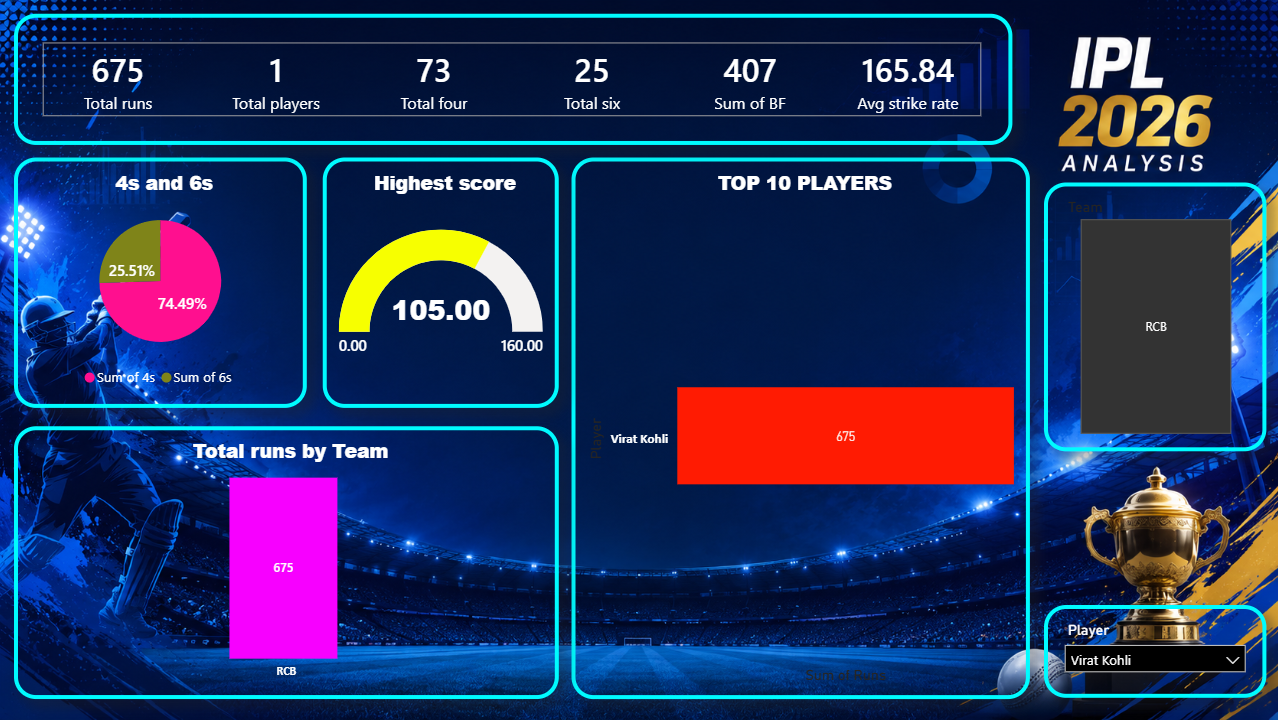

What the dashboard file says about the page in this screenshot:
{"tool":"powerbi","page":{"name":"Page 1","canvas":[1280,720],"ordinal":0},"visuals":[{"type":"barChart","title":"TOP 10 PLAYERS","fields":{"Category":["IPL2026.Player"],"Y":["Sum(IPL2026.Runs)"]},"box":[572.4,156.9,458.6,541.4],"z":0},{"type":"pieChart","title":"4s and 6s","fields":{"Y":["Sum(IPL2026.4s)","Sum(IPL2026.6s)"]},"box":[15,157.5,292.5,250],"z":1000},{"type":"columnChart","fields":{"Category":["IPL2026.Team"],"Y":["IPL2026.Total runs"]},"box":[15.5,425.9,544.8,272.4],"z":2000},{"type":"cardVisual","fields":{"Data":["IPL2026.Total runs","IPL2026.Total players","IPL2026.Total four","IPL2026.Total six","Sum(IPL2026.BF)","IPL2026.Avg strike rate"]},"box":[15.5,13.8,998.3,131],"z":3000},{"type":"slicer","fields":{"Values":["IPL2026.Team"]},"box":[1044.8,182.8,222.4,269],"z":4000},{"type":"slicer","title":"PLAYERS","fields":{"Values":["IPL2026.Player"]},"box":[1044.8,605.2,222.4,93.1],"z":5000},{"type":"gauge","fields":{"Y":["IPL2026.Highest score"]},"box":[323.8,157.5,236.2,250],"z":7000}]}

Visuals, with their boxes in screenshot pixels (x1, y1, x2, y2), scaled from the page's 1280x720 canvas onto the 1278x720 screenshot:
"TOP 10 PLAYERS" barChart: [x1=572, y1=157, x2=1029, y2=698]
"4s and 6s" pieChart: [x1=15, y1=158, x2=307, y2=408]
columnChart - IPL2026.Team x IPL2026.Total runs: [x1=15, y1=426, x2=559, y2=698]
cardVisual - IPL2026.Total runs x IPL2026.Total players: [x1=15, y1=14, x2=1012, y2=145]
slicer - IPL2026.Team: [x1=1043, y1=183, x2=1265, y2=452]
"PLAYERS" slicer: [x1=1043, y1=605, x2=1265, y2=698]
gauge - IPL2026.Highest score: [x1=323, y1=158, x2=559, y2=408]
